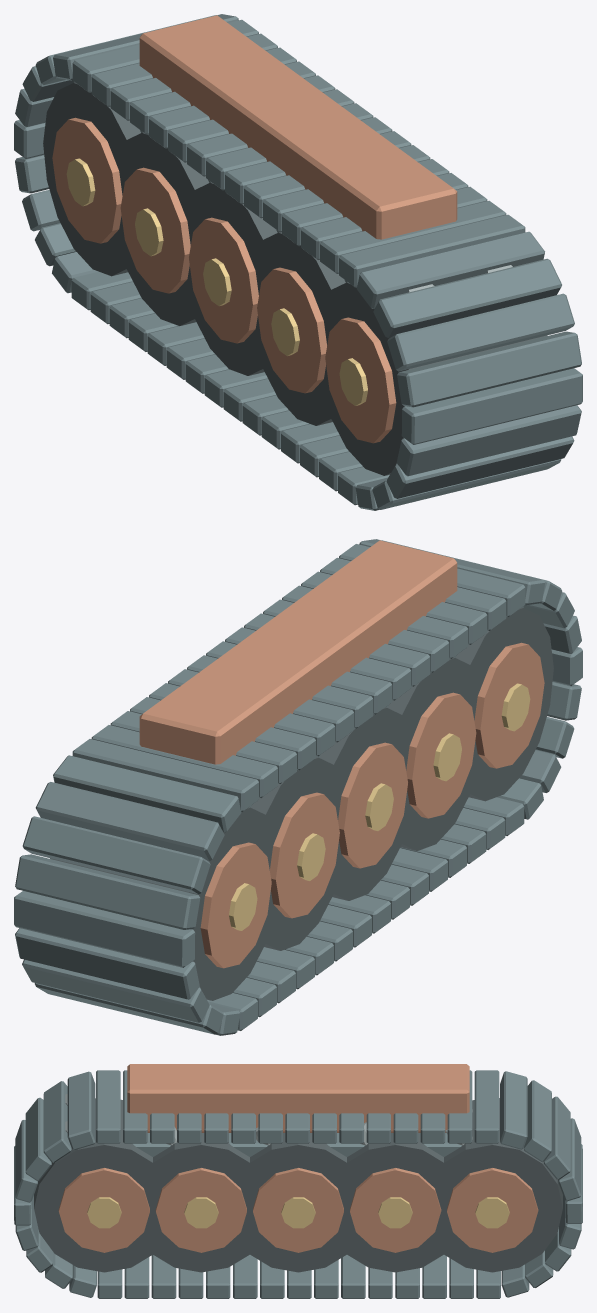
File: track_bogie_3m.glb
3 views of the same model, one above another, from view 1: azimuth 30°, elevation 25°; view 2: azimuth 150°, elevation 25°; view 3: azimuth 270°, elevation 25° (orthographic). The views are drawn at different scales.
Visible parts, largest first — view 1: track_bogie_3m; view 2: track_bogie_3m; view 3: track_bogie_3m.
Boxes of the visible parts, x1,y1,x2,y2 form: track_bogie_3m: (14,14,582,510); track_bogie_3m: (14,539,582,1035); track_bogie_3m: (14,1064,582,1298).
Size of the model in its own units: 0.74 by 1.12 by 2.99.
